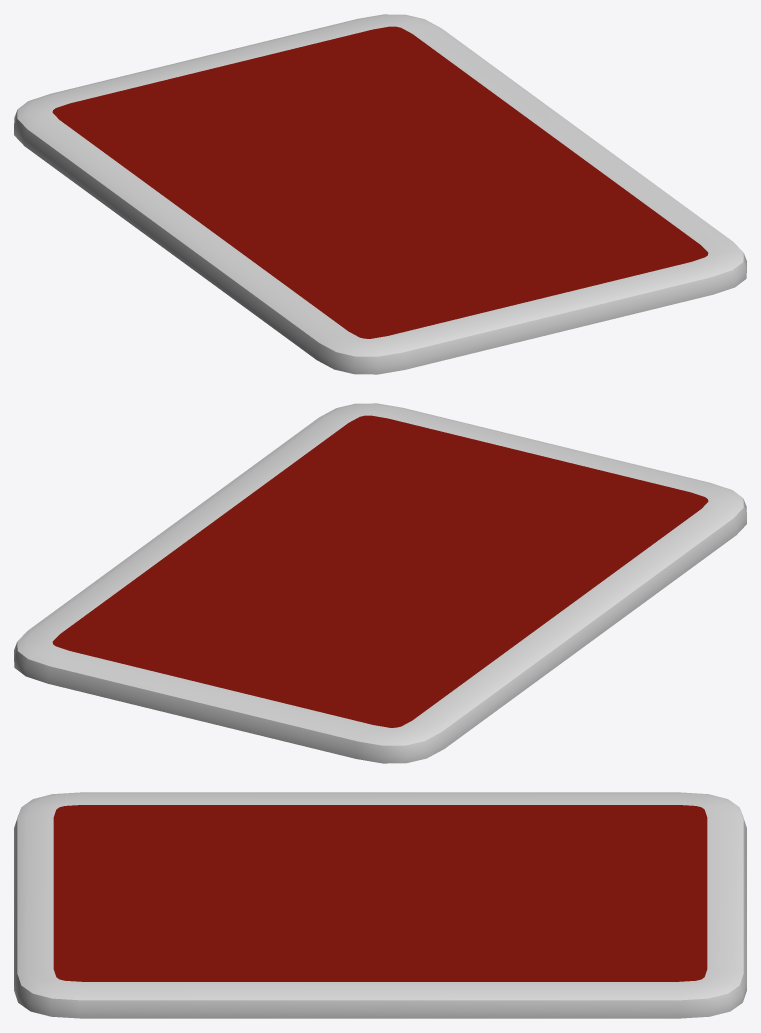
Rendered from Tablet.fbx.
3 views of the same model, one above another, from view 1: azimuth 30°, elevation 25°; view 2: azimuth 150°, elevation 25°; view 3: azimuth 270°, elevation 25° (orthographic). The views are drawn at different scales.
Parts seen in each view (by area): view 1: Box002; view 2: Box002; view 3: Box002.
Part boxes in pixels (x1,y1,x2,y2): Box002: [14, 14, 746, 374]; Box002: [14, 403, 746, 763]; Box002: [14, 792, 746, 1018].
Bounding box in the file's own units: 0.3762 × 0.0165 × 0.5533.
